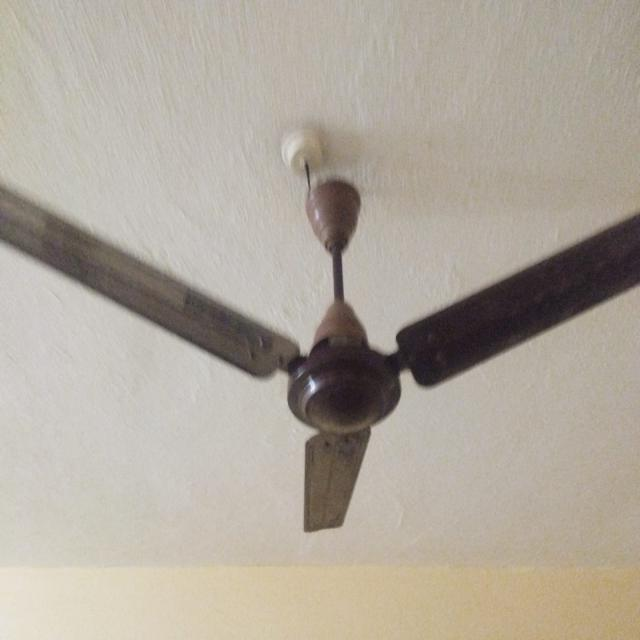fan_off: (2, 174, 640, 531)
